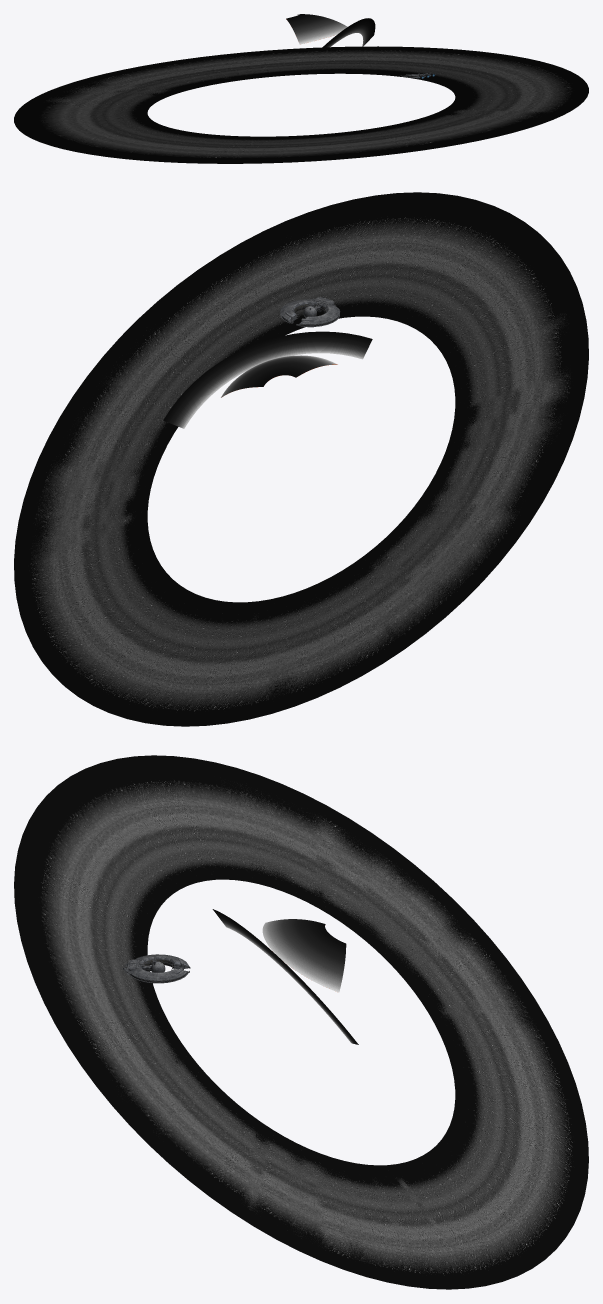
File: env_space_geonosis_02_pre.glb
3 renders of one model, top to bottom at view 1: azimuth 30°, elevation 25°; view 2: azimuth 150°, elevation 25°; view 3: azimuth 270°, elevation 25°, orthographic. The views are drawn at different scales.
Visible parts, largest first — view 1: planet_ring_02, planet_ring_01, planet_huge_atmo, planet_huge_glow; view 2: planet_ring_01, planet_ring_02, planet_huge_glow, planet_huge_atmo, unit_ship_tradefederation_battleship_mesh; view 3: planet_ring_01, planet_ring_02, planet_huge_atmo, unit_ship_tradefederation_battleship_mesh, planet_huge_glow.
Boxes of the visible parts, <box> form: planet_ring_02: <box>14,46,588,163</box>; planet_ring_01: <box>25,72,556,161</box>; planet_huge_atmo: <box>286,14,347,44</box>; planet_huge_glow: <box>323,18,375,47</box>; planet_ring_01: <box>25,202,577,713</box>; planet_ring_02: <box>14,192,588,726</box>; planet_huge_glow: <box>163,331,372,428</box>; planet_huge_atmo: <box>221,355,337,397</box>; unit_ship_tradefederation_battleship_mesh: <box>280,297,340,327</box>; planet_ring_01: <box>25,765,544,1278</box>; planet_ring_02: <box>14,755,588,1289</box>; planet_huge_atmo: <box>262,919,346,992</box>; unit_ship_tradefederation_battleship_mesh: <box>122,954,190,983</box>; planet_huge_glow: <box>212,909,358,1044</box>.
Size of the model in its own units: 2755 by 1691 by 2397.
7 materials, 7 textured.
